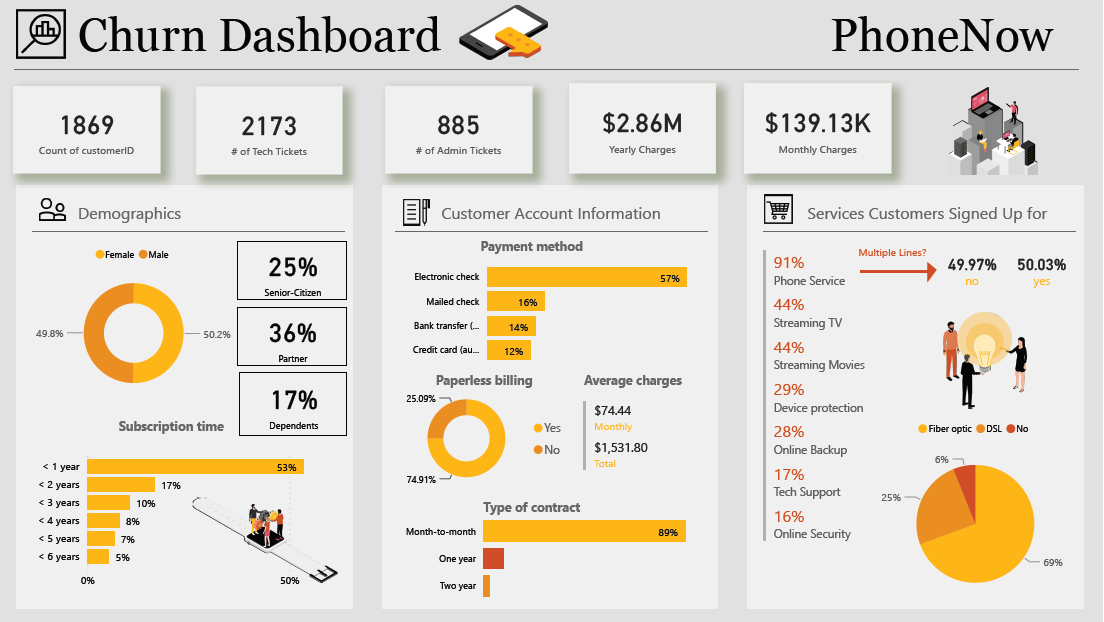

The page's visual inventory and layout, read from the dashboard file:
{"tool":"powerbi","page":{"name":"Churn","canvas":[1280,720],"ordinal":1},"visuals":[{"type":"textbox","box":[87.7,4.9,1173.8,75],"z":0},{"type":"basicShape","box":[8.7,60.7,1253,40.5],"z":1000},{"type":"basicShape","box":[18.3,210,396.8,499.9],"z":2000},{"type":"card","fields":{"Values":["Count(churn.customerID)"]},"box":[18.4,99.9,169.5,101.2],"z":3000},{"type":"basicShape","box":[441.6,210,396.8,499.9],"z":4000},{"type":"basicShape","box":[864.9,210,396.8,499.9],"z":5000},{"type":"textbox","box":[508.5,228.6,314.9,35.6],"z":6000},{"type":"basicShape","box":[450.7,248.9,381.4,39.5],"z":7000},{"type":"image","box":[461.3,226.3,47.2,39.5],"z":8000},{"type":"textbox","box":[932.7,228.6,314.9,35.6],"z":9000},{"type":"basicShape","box":[877.4,248.9,381.4,39.5],"z":10000},{"type":"textbox","box":[88,228.6,314.9,35.6],"z":11000},{"type":"basicShape","box":[30.2,248.9,381.4,39.5],"z":12000},{"type":"image","box":[883.2,220.6,42.4,43.3],"z":13000},{"type":"image","box":[43.3,220.6,40.5,44.3],"z":14000},{"type":"donutChart","fields":{"Category":["churn.gender"],"Y":["CountNonNull(churn.gender)"]},"box":[37.1,276.3,240.6,192.5],"z":15000},{"type":"card","fields":{"Values":["churn.SeniorCitizen in %"]},"box":[277.2,279.9,127.4,68.3],"z":16000},{"type":"card","fields":{"Values":["churn.Partner in %"]},"box":[277.2,356.1,127.4,68.3],"z":17000},{"type":"card","fields":{"Values":["churn.Dependents in %"]},"box":[278.5,430.9,126.1,73.6],"z":18000},{"type":"clusteredBarChart","fields":{"Category":["churn.Contract"],"Y":["CountNonNull(churn.Contract)"]},"box":[461.3,577.9,370.8,131.9],"z":19000},{"type":"clusteredBarChart","fields":{"Y":["CountNonNull(churn.PaymentMethod)"],"Category":["churn.PaymentMethod"]},"box":[461.3,286,370.8,148.3],"z":20000},{"type":"textbox","box":[461.3,269.7,314.9,35.6],"z":21000},{"type":"textbox","box":[461.3,424.7,204.2,35.6],"z":22000},{"type":"donutChart","fields":{"Category":["churn.PaperlessBilling"],"Y":["CountNonNull(churn.PaperlessBilling)"]},"box":[461.3,438.2,204.2,139.7],"z":23000},{"type":"multiRowCard","fields":{"Values":["Avg(churn.MonthlyCharges)","Avg(churn.TotalCharges)"]},"box":[674.2,460.4,149.3,95.3],"z":24000},{"type":"textbox","box":[461.3,572.1,314.9,35.6],"z":25000},{"type":"pieChart","fields":{"Category":["churn.InternetService"],"Y":["Divide(CountNonNull(churn.InternetService), ScopedEval(CountNonNull(churn.InternetService), []))"]},"box":[1007.7,478.2,249.6,231.2],"z":26000},{"type":"card","fields":{"Values":["churn.Multiple Lines in %"]},"box":[1172.8,276.4,72.2,62.6],"z":27000},{"type":"card","fields":{"Values":["churn.Multiple lines no in %"]},"box":[1093.1,276.4,72.2,61.6],"z":28000},{"type":"textbox","box":[971.7,278.2,129.4,27.2],"z":29000},{"type":"textbox","box":[1092.2,311,73.2,35.6],"z":30000},{"type":"textbox","box":[1172.8,311,73.2,35.6],"z":31000},{"type":"textbox","box":[674.2,424.7,148.3,35.6],"z":32000},{"type":"multiRowCard","fields":{"Values":["churn.Phone Service in %","churn.Streaming TV in %","churn.Streaming Movies in %","churn.Device protection in %","churn.Online Bacup in %","churn.Tech Support in %","churn.Online Sec. in %"]},"box":[882.2,286,165.3,414.3],"z":33000},{"type":"basicShape","box":[990.2,300.5,97.3,28.2],"z":34000},{"type":"basicShape","box":[1063.1,296.7,37.9,32.1],"z":35000},{"type":"clusteredBarChart","fields":{"Y":["CountNonNull(churn.Churn)"],"Category":["churn.Loyalty"]},"box":[36.8,511.1,365.3,180],"z":36000},{"type":"textbox","box":[43.8,478.5,314.2,35],"z":37000},{"type":"image","box":[1048.2,356.5,190.9,121.8],"z":38000},{"type":"image","box":[16.6,4.9,67.2,68.2],"z":39000},{"type":"card","fields":{"Values":["Sum(churn.MonthlyCharges)"]},"box":[864.5,97.2,170.8,103.8],"z":40000},{"type":"image","box":[221.1,556.2,178.3,139.3],"z":41000},{"type":"card","fields":{"Values":["Sum(churn.numTechTickets)"]},"box":[229.9,101.2,169.5,101.2],"z":42000},{"type":"card","fields":{"Values":["Sum(churn.numAdminTickets)"]},"box":[449.3,99.9,169.5,101.2],"z":43000},{"type":"card","fields":{"Values":["Sum(churn.TotalCharges)"]},"box":[662.2,97.2,169.5,103.8],"z":44000},{"type":"image","box":[525.2,0,121,74.2],"z":45000},{"type":"image","box":[1024.8,97.2,254.9,110.4],"z":46000}]}

Visuals, with their boxes in screenshot pixels (x1, y1, x2, y2), scaled from the page's 1280x720 canvas onto the 1104x622 screenshot:
textbox: pyautogui.locateOnScreen(76, 4, 1088, 69)
basicShape: pyautogui.locateOnScreen(8, 52, 1088, 87)
basicShape: pyautogui.locateOnScreen(16, 181, 358, 613)
card - Count(churn.customerID): pyautogui.locateOnScreen(16, 86, 162, 174)
basicShape: pyautogui.locateOnScreen(381, 181, 723, 613)
basicShape: pyautogui.locateOnScreen(746, 181, 1088, 613)
textbox: pyautogui.locateOnScreen(439, 197, 710, 228)
basicShape: pyautogui.locateOnScreen(389, 215, 718, 249)
image: pyautogui.locateOnScreen(398, 195, 439, 230)
textbox: pyautogui.locateOnScreen(804, 197, 1076, 228)
basicShape: pyautogui.locateOnScreen(757, 215, 1086, 249)
textbox: pyautogui.locateOnScreen(76, 197, 348, 228)
basicShape: pyautogui.locateOnScreen(26, 215, 355, 249)
image: pyautogui.locateOnScreen(762, 191, 798, 228)
image: pyautogui.locateOnScreen(37, 191, 72, 229)
donutChart - churn.gender x CountNonNull(churn.gender): pyautogui.locateOnScreen(32, 239, 240, 405)
card - churn.SeniorCitizen in %: pyautogui.locateOnScreen(239, 242, 349, 301)
card - churn.Partner in %: pyautogui.locateOnScreen(239, 308, 349, 367)
card - churn.Dependents in %: pyautogui.locateOnScreen(240, 372, 349, 436)
clusteredBarChart - churn.Contract x CountNonNull(churn.Contract): pyautogui.locateOnScreen(398, 499, 718, 613)
clusteredBarChart - CountNonNull(churn.PaymentMethod) x churn.PaymentMethod: pyautogui.locateOnScreen(398, 247, 718, 375)
textbox: pyautogui.locateOnScreen(398, 233, 669, 264)
textbox: pyautogui.locateOnScreen(398, 367, 574, 398)
donutChart - churn.PaperlessBilling x CountNonNull(churn.PaperlessBilling): pyautogui.locateOnScreen(398, 379, 574, 499)
multiRowCard - Avg(churn.MonthlyCharges) x Avg(churn.TotalCharges): pyautogui.locateOnScreen(581, 398, 710, 480)
textbox: pyautogui.locateOnScreen(398, 494, 669, 525)
pieChart - churn.InternetService x Divide(CountNonNull(churn.InternetService), ScopedEval(CountNonNull(churn.InternetService), [])): pyautogui.locateOnScreen(869, 413, 1084, 613)
card - churn.Multiple Lines in %: pyautogui.locateOnScreen(1012, 239, 1074, 293)
card - churn.Multiple lines no in %: pyautogui.locateOnScreen(943, 239, 1005, 292)
textbox: pyautogui.locateOnScreen(838, 240, 950, 264)
textbox: pyautogui.locateOnScreen(942, 269, 1005, 299)
textbox: pyautogui.locateOnScreen(1012, 269, 1075, 299)
textbox: pyautogui.locateOnScreen(581, 367, 709, 398)
multiRowCard - churn.Phone Service in % x churn.Streaming TV in %: pyautogui.locateOnScreen(761, 247, 903, 605)
basicShape: pyautogui.locateOnScreen(854, 260, 938, 284)
basicShape: pyautogui.locateOnScreen(917, 256, 950, 284)
clusteredBarChart - CountNonNull(churn.Churn) x churn.Loyalty: pyautogui.locateOnScreen(32, 442, 347, 597)
textbox: pyautogui.locateOnScreen(38, 413, 309, 444)
image: pyautogui.locateOnScreen(904, 308, 1069, 413)
image: pyautogui.locateOnScreen(14, 4, 72, 63)
card - Sum(churn.MonthlyCharges): pyautogui.locateOnScreen(746, 84, 893, 174)
image: pyautogui.locateOnScreen(191, 480, 344, 601)
card - Sum(churn.numTechTickets): pyautogui.locateOnScreen(198, 87, 344, 175)
card - Sum(churn.numAdminTickets): pyautogui.locateOnScreen(388, 86, 534, 174)
card - Sum(churn.TotalCharges): pyautogui.locateOnScreen(571, 84, 717, 174)
image: pyautogui.locateOnScreen(453, 0, 557, 64)
image: pyautogui.locateOnScreen(884, 84, 1103, 179)
